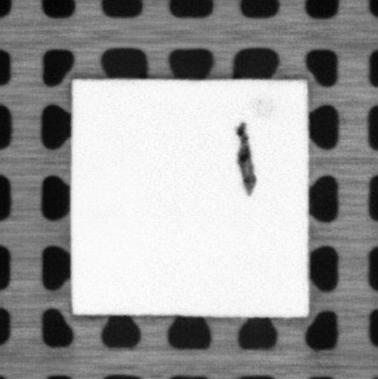DIE_INK: (236, 120, 257, 198)
